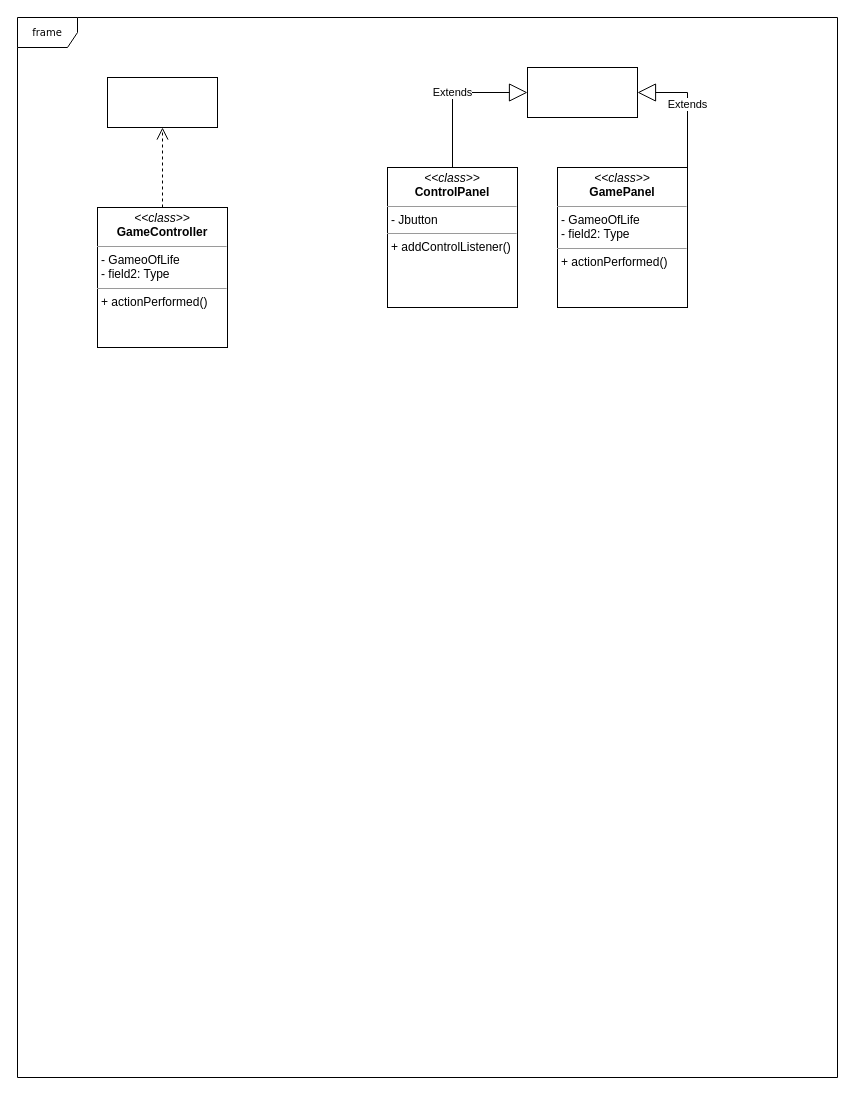
This 855x1095 diagram has some shape labels left out. The box of each missing label's shape, as (x1, y1, x2, y2) in pixels:
«class» Jpanel: (526, 66, 638, 118)
«interface» ActionListener: (106, 76, 218, 128)
